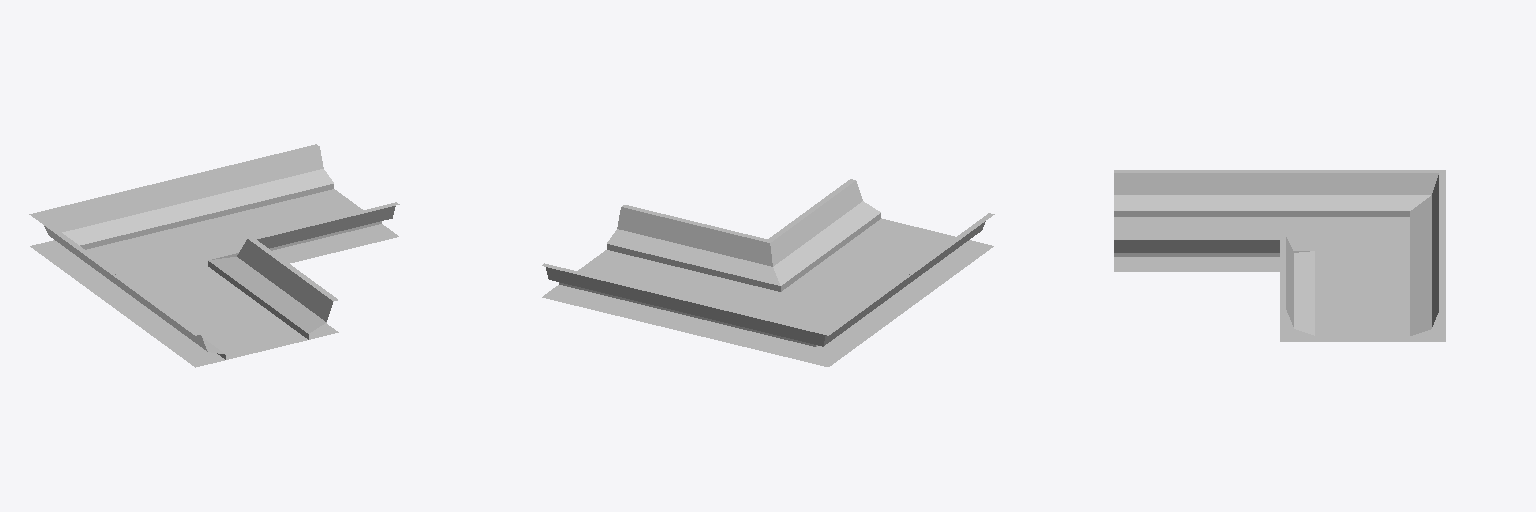
Rendered from turn_right_ceiling.obj.
The picture shows the model from 3 angles: view 1: azimuth 30°, elevation 25°; view 2: azimuth 150°, elevation 25°; view 3: azimuth 270°, elevation 25°; orthographic projection.
Size of the model in its own units: 4 by 0.435 by 4.